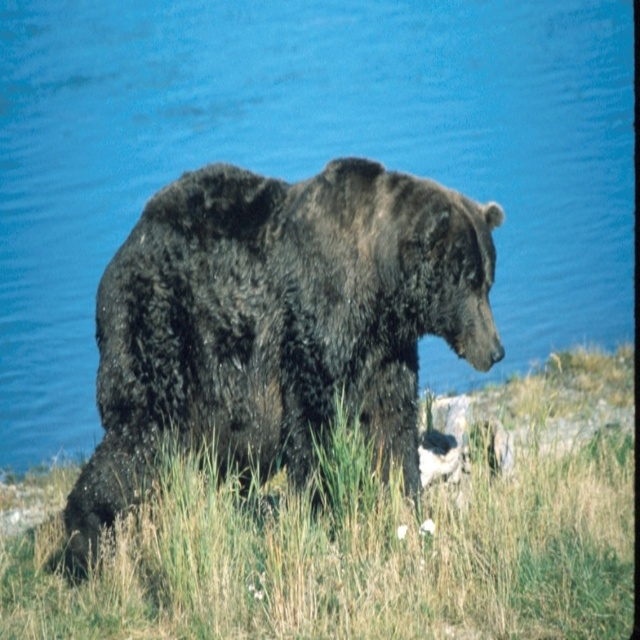Bear: (62, 154, 507, 607)
